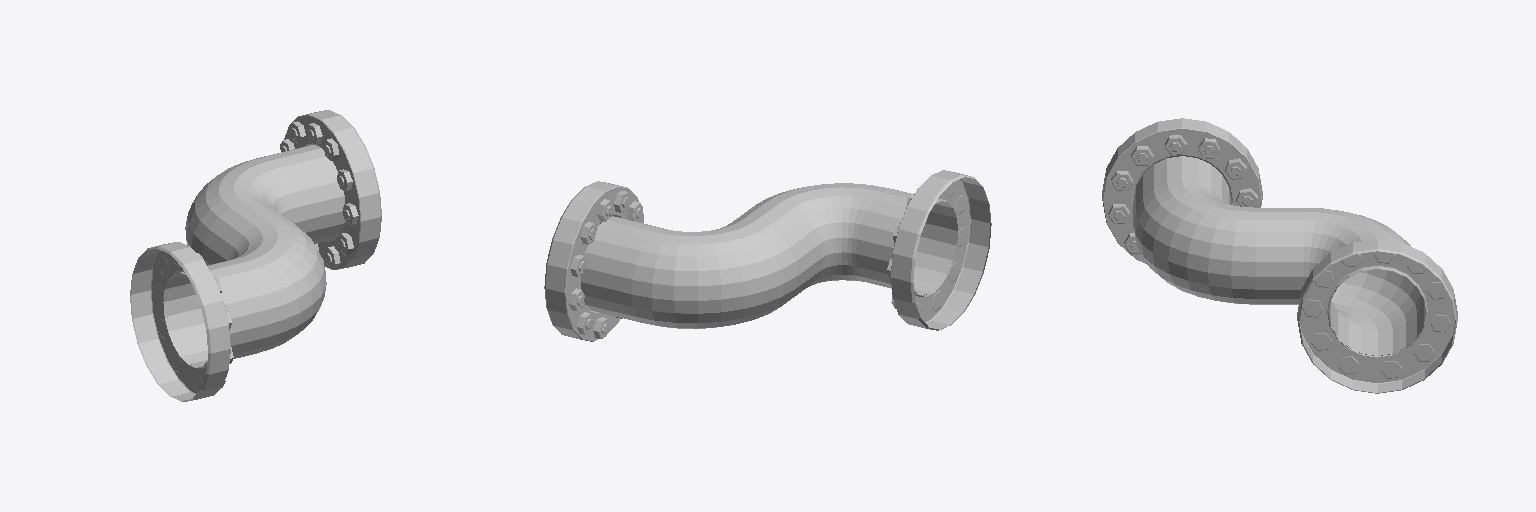
Rendered from CurvePipe_Twobends.obj.
3 views of the same model, side by side, from view 1: azimuth 30°, elevation 25°; view 2: azimuth 150°, elevation 25°; view 3: azimuth 270°, elevation 25° (orthographic).
Visible parts, largest first — view 1: polySurface93; view 2: polySurface93; view 3: polySurface93.
Boxes of the visible parts, x1,y1,x2,y2 form: polySurface93: [130, 110, 381, 401]; polySurface93: [544, 170, 991, 341]; polySurface93: [1102, 118, 1457, 393].
Size of the model in its own units: 202 by 103 by 229.